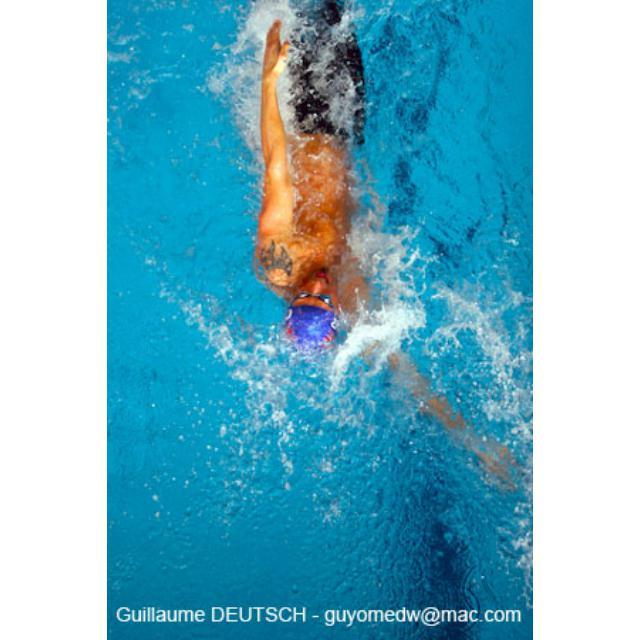human: (259, 12, 516, 495)
